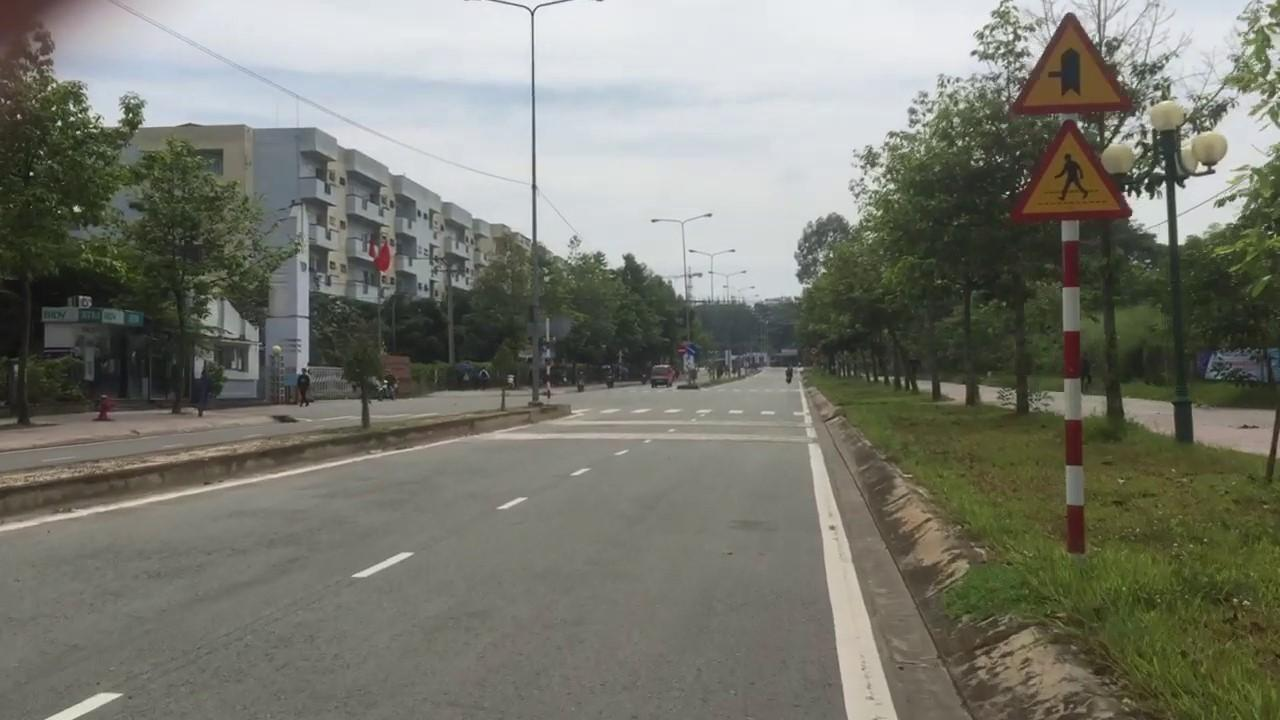P.124b: (1000, 126, 1134, 222)
P.127: (1004, 6, 1132, 118)
